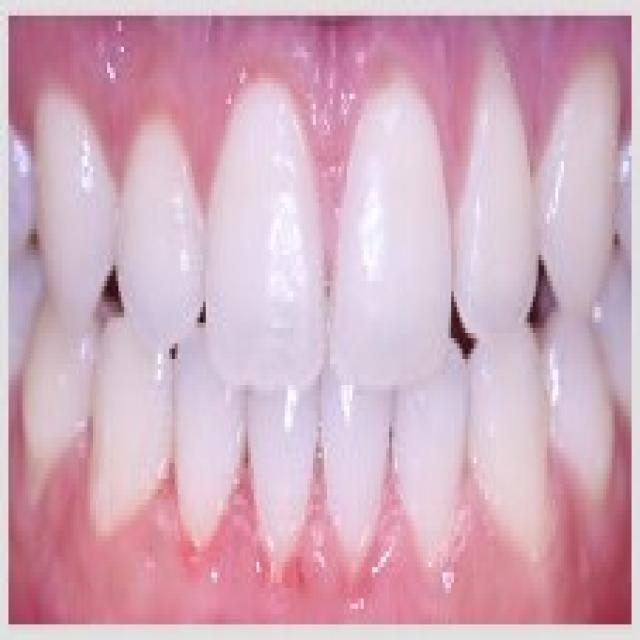tooth: (189, 42, 333, 385), (324, 78, 462, 380), (460, 343, 570, 583), (457, 57, 544, 338), (102, 114, 208, 343), (20, 109, 124, 312), (547, 57, 623, 312), (99, 328, 178, 499), (172, 328, 245, 510), (316, 396, 389, 567), (395, 385, 462, 557), (248, 391, 319, 546), (550, 333, 614, 494), (28, 338, 107, 463)
